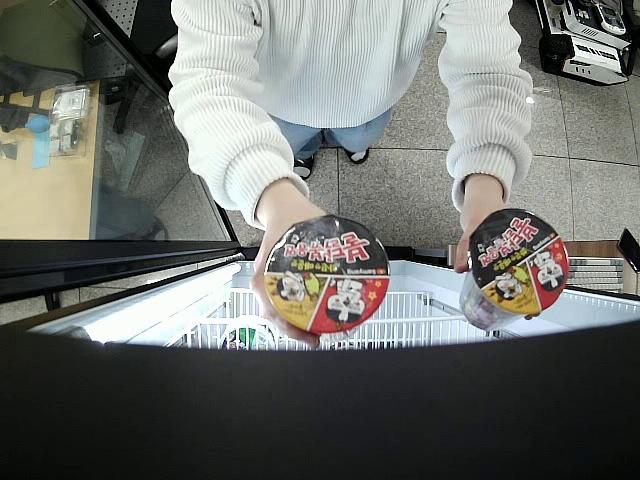00_hand: (249, 210, 327, 349), (454, 204, 508, 269)
08_buldak_S: (266, 217, 388, 334), (460, 209, 570, 329)
